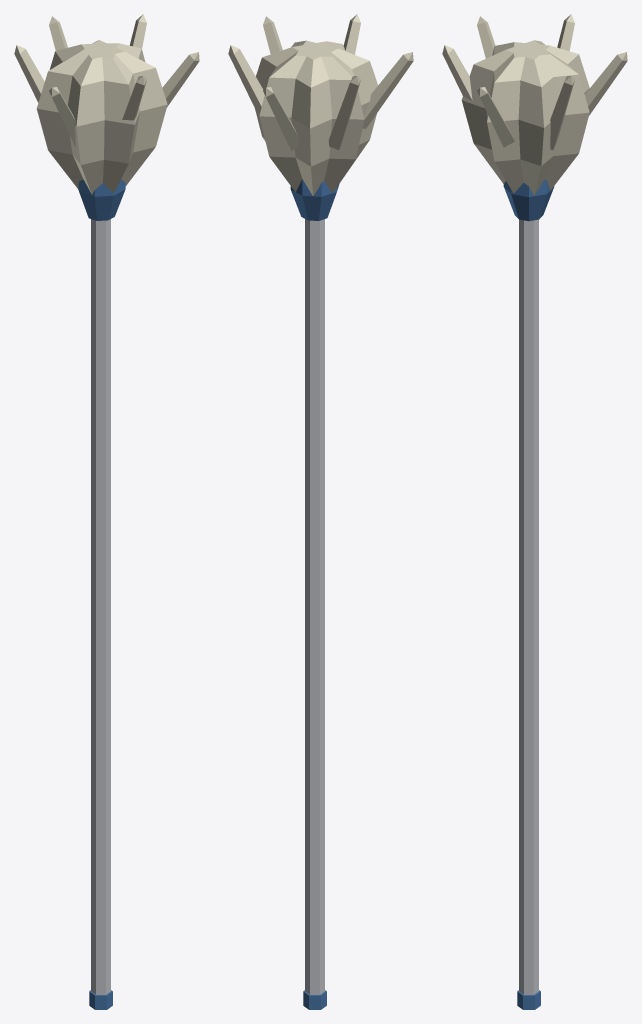
File: mop.glb
3 views of the same model, side by side, from view 1: azimuth 30°, elevation 25°; view 2: azimuth 150°, elevation 25°; view 3: azimuth 270°, elevation 25° (orthographic).
Parts seen in each view (by area): view 1: mop; view 2: mop; view 3: mop.
Part boxes in pixels (x1,y1,x2,y2): mop: (14, 14, 199, 1009); mop: (228, 14, 413, 1009); mop: (442, 14, 627, 1009).
Bounding box in the file's own units: 0.2154 × 1.34 × 0.2338.
